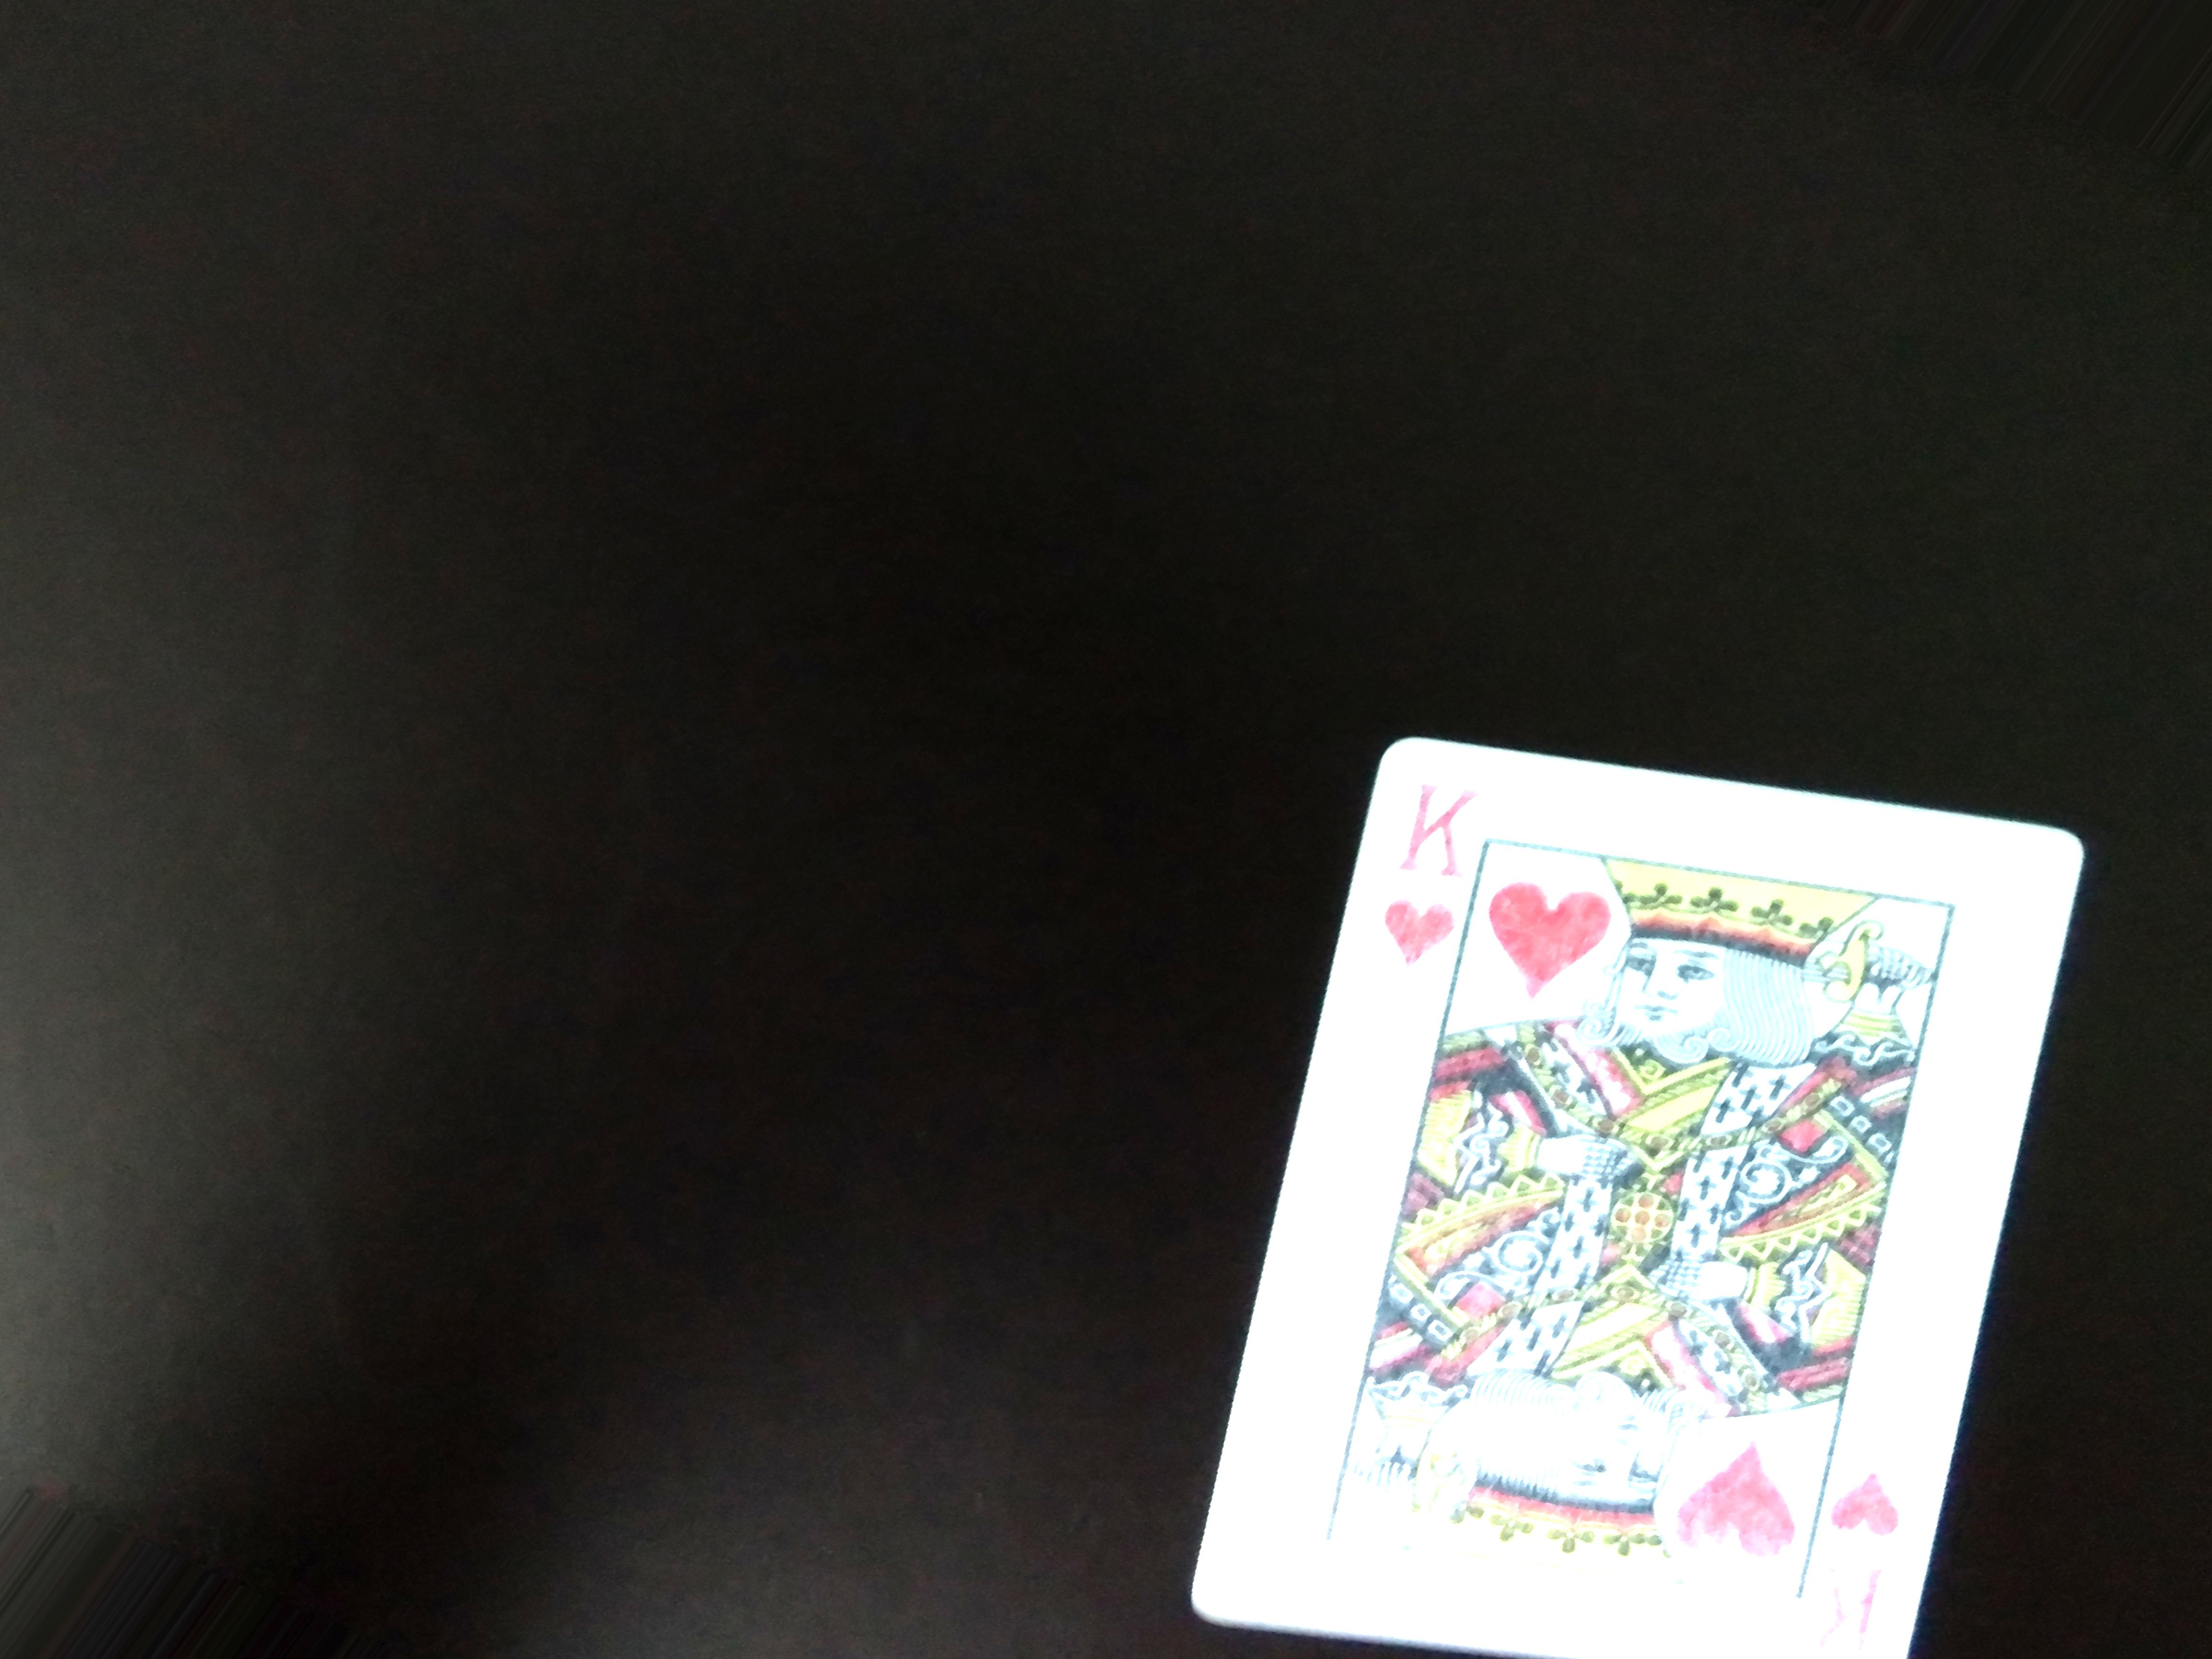KH: (1376, 744, 1475, 983)
